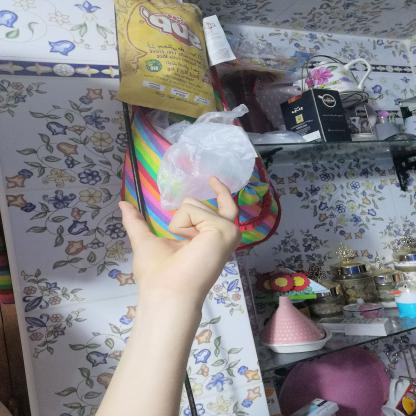NOON: (104, 165, 258, 306)
